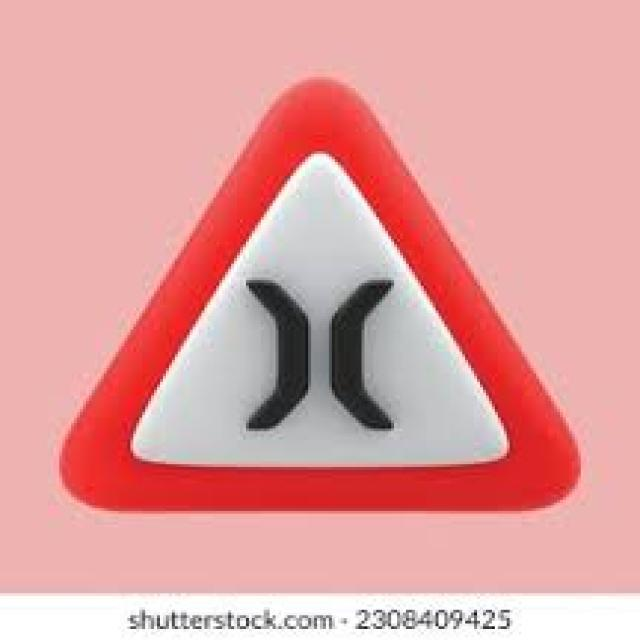narrow bridge ahead: (52, 67, 589, 521)
